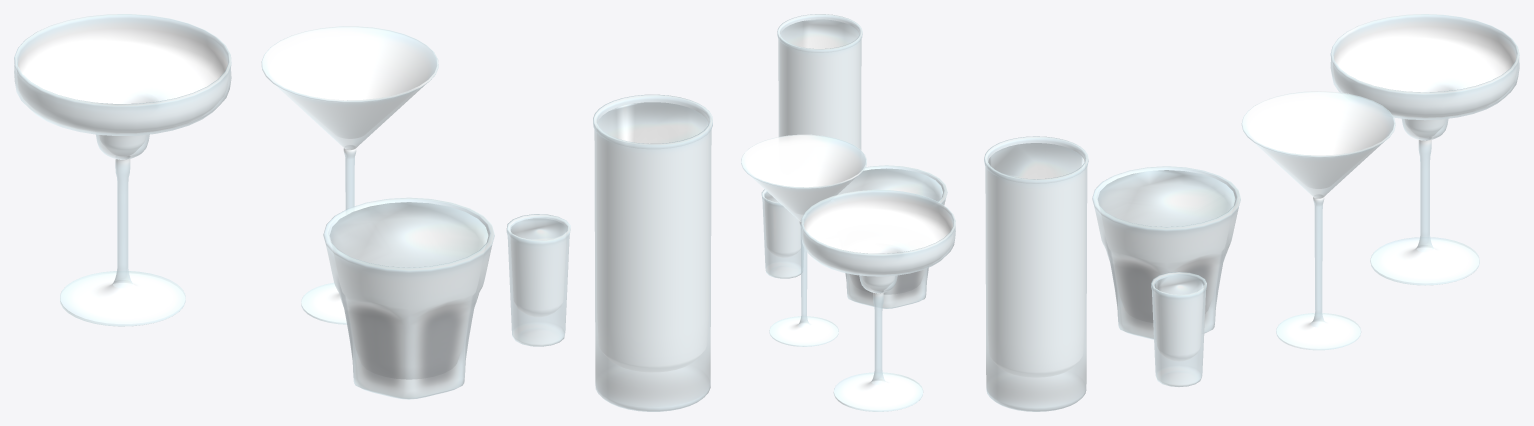
File: glasses.glb
The picture shows the model from 3 angles, left to right: view 1: azimuth 30°, elevation 25°; view 2: azimuth 150°, elevation 25°; view 3: azimuth 270°, elevation 25°; orthographic projection. The views are drawn at different scales.
Parts seen in each view (by area): view 1: Highball_low, marghareta_low, rocks_low, cocktail_low, rocks_low_lambert1_0.001, shot_low, Highball_low_lambert1_0.001, shot_low_lambert1_0.001; view 2: marghareta_low, cocktail_low, Highball_low, shot_low, rocks_low, rocks_low_lambert1_0.001, Highball_low_lambert1_0.001; view 3: Highball_low, marghareta_low, cocktail_low, rocks_low, rocks_low_lambert1_0.001, shot_low, Highball_low_lambert1_0.001, shot_low_lambert1_0.001.
Part boxes in pixels (x1=…): Highball_low: x1=593, y1=94, x2=712, y2=411; marghareta_low: x1=14, y1=14, x2=231, y2=326; rocks_low: x1=323, y1=197, x2=494, y2=399; cocktail_low: x1=261, y1=26, x2=438, y2=324; rocks_low_lambert1_0.001: x1=329, y1=202, x2=488, y2=316; shot_low: x1=506, y1=214, x2=570, y2=346; Highball_low_lambert1_0.001: x1=597, y1=102, x2=708, y2=372; shot_low_lambert1_0.001: x1=511, y1=218, x2=566, y2=243; marghareta_low: x1=801, y1=189, x2=955, y2=411; cocktail_low: x1=741, y1=134, x2=866, y2=346; Highball_low: x1=777, y1=14, x2=862, y2=153; shot_low: x1=761, y1=189, x2=803, y2=278; rocks_low: x1=845, y1=165, x2=947, y2=308; rocks_low_lambert1_0.001: x1=834, y1=168, x2=942, y2=203; Highball_low_lambert1_0.001: x1=780, y1=19, x2=859, y2=52; Highball_low: x1=984, y1=136, x2=1088, y2=411; marghareta_low: x1=1330, y1=14, x2=1519, y2=285; cocktail_low: x1=1241, y1=91, x2=1395, y2=350; rocks_low: x1=1092, y1=166, x2=1240, y2=339; rocks_low_lambert1_0.001: x1=1097, y1=170, x2=1235, y2=269; shot_low: x1=1151, y1=271, x2=1206, y2=386; Highball_low_lambert1_0.001: x1=988, y1=143, x2=1084, y2=377; shot_low_lambert1_0.001: x1=1154, y1=275, x2=1203, y2=297.
Size of the model in its own units: 0.1869 by 0.1063 by 0.2205.
1 material, 1 textured.
